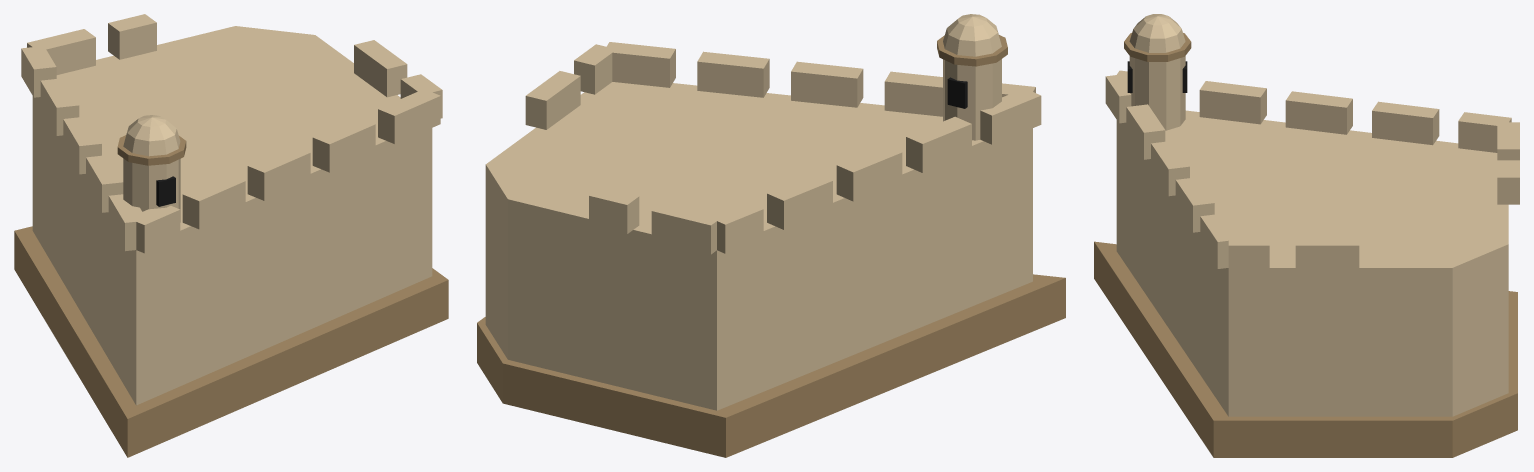
Rendered from muralha.glb.
The picture shows the model from 3 angles, left to right: view 1: azimuth 30°, elevation 25°; view 2: azimuth 150°, elevation 25°; view 3: azimuth 270°, elevation 25°; orthographic projection. The views are drawn at different scales.
Parts seen in each view (by area): view 1: muralha; view 2: muralha; view 3: muralha.
Part boxes in pixels (box(x1,y1,x2,y2)): muralha: box(14, 14, 448, 457); muralha: box(477, 14, 1065, 457); muralha: box(1094, 14, 1519, 457).
Bounding box in the file's own units: 2.28 × 1.71 × 2.28.
